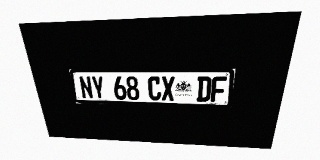6: (112, 76, 127, 100)
8: (125, 76, 140, 100)
C: (147, 76, 161, 101)
D: (196, 76, 212, 102)
F: (210, 76, 227, 102)
N: (78, 76, 94, 99)
X: (161, 76, 175, 101)
Y: (91, 76, 106, 99)
